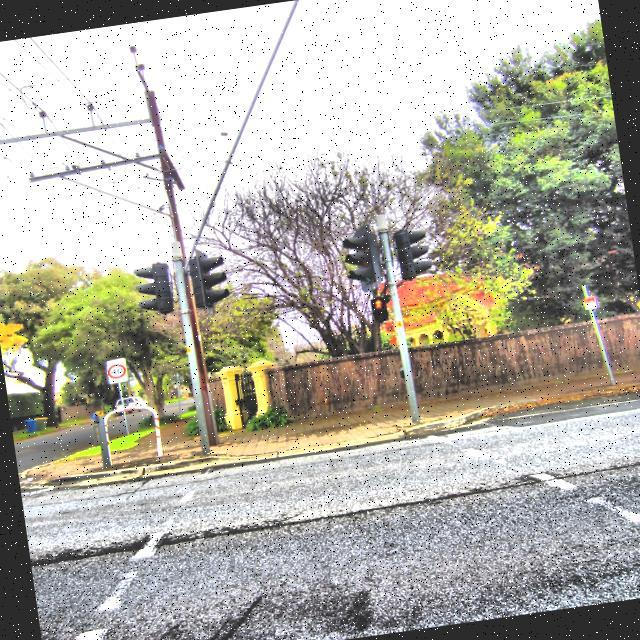red_light: (373, 298, 382, 308)
